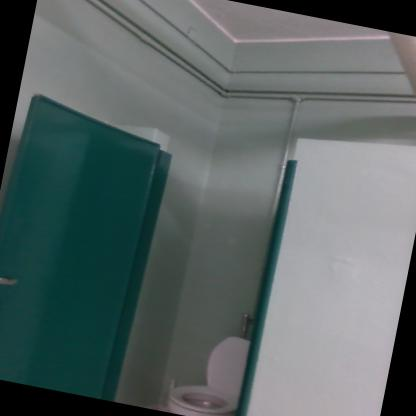open: (0, 73, 335, 415)
